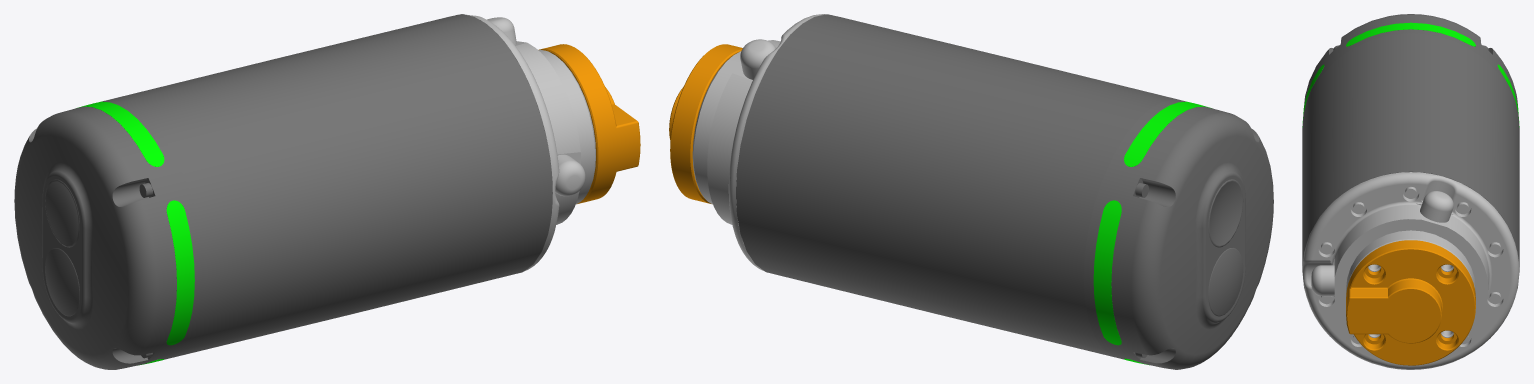
The model's file is ToolAxis6.fbx.
3 renders of one model, left to right at view 1: azimuth 30°, elevation 25°; view 2: azimuth 150°, elevation 25°; view 3: azimuth 270°, elevation 25°, orthographic. The views are drawn at different scales.
Visible parts, largest first — view 1: Body1 (×3); view 2: Body1 (×3); view 3: Body1 (×3).
Part boxes in pixels (x1=…): Body1 (×3): x1=14, y1=14, x2=640, y2=369; Body1 (×3): x1=669, y1=14, x2=1273, y2=369; Body1 (×3): x1=1302, y1=14, x2=1519, y2=369.
Bounding box in the file's own units: 248 × 105 × 106.
